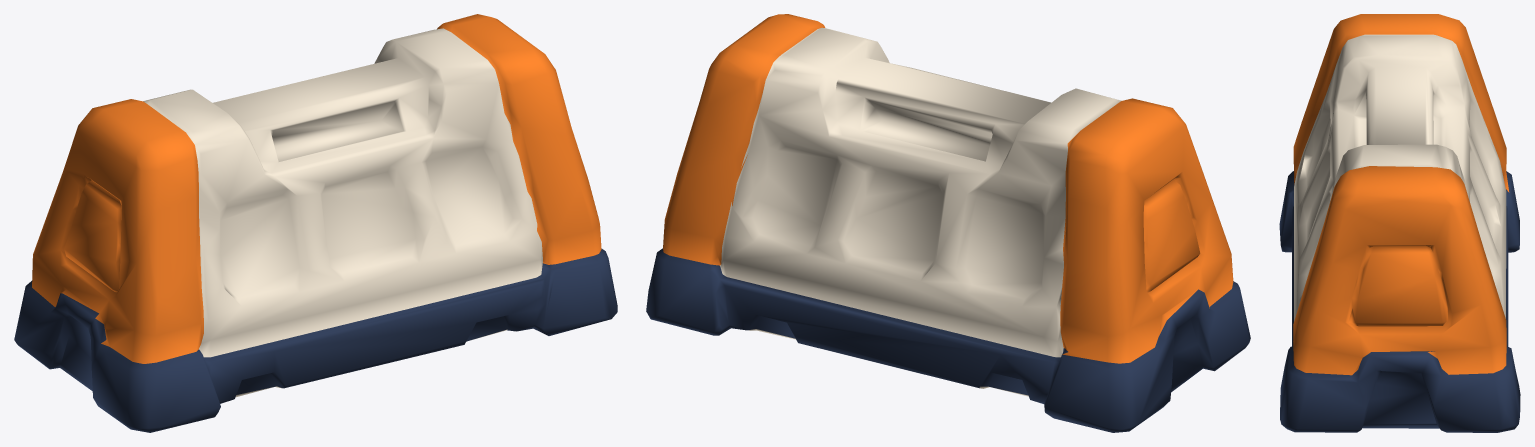
The model's file is cream-orange-cover-barrier_LOD1.glb.
3 renders of one model, left to right at view 1: azimuth 30°, elevation 25°; view 2: azimuth 150°, elevation 25°; view 3: azimuth 270°, elevation 25°, orthographic. The views are drawn at different scales.
Parts seen in each view (by area): view 1: cream-orange-cover-barrier_LOD1; view 2: cream-orange-cover-barrier_LOD1; view 3: cream-orange-cover-barrier_LOD1.
Boxes of the visible parts, x1,y1,x2,y2 form: cream-orange-cover-barrier_LOD1: (14, 14, 617, 432); cream-orange-cover-barrier_LOD1: (646, 14, 1250, 432); cream-orange-cover-barrier_LOD1: (1279, 14, 1520, 432).
Size of the model in its own units: 1.52 by 0.7483 by 0.7152.
1 material, 1 textured.
